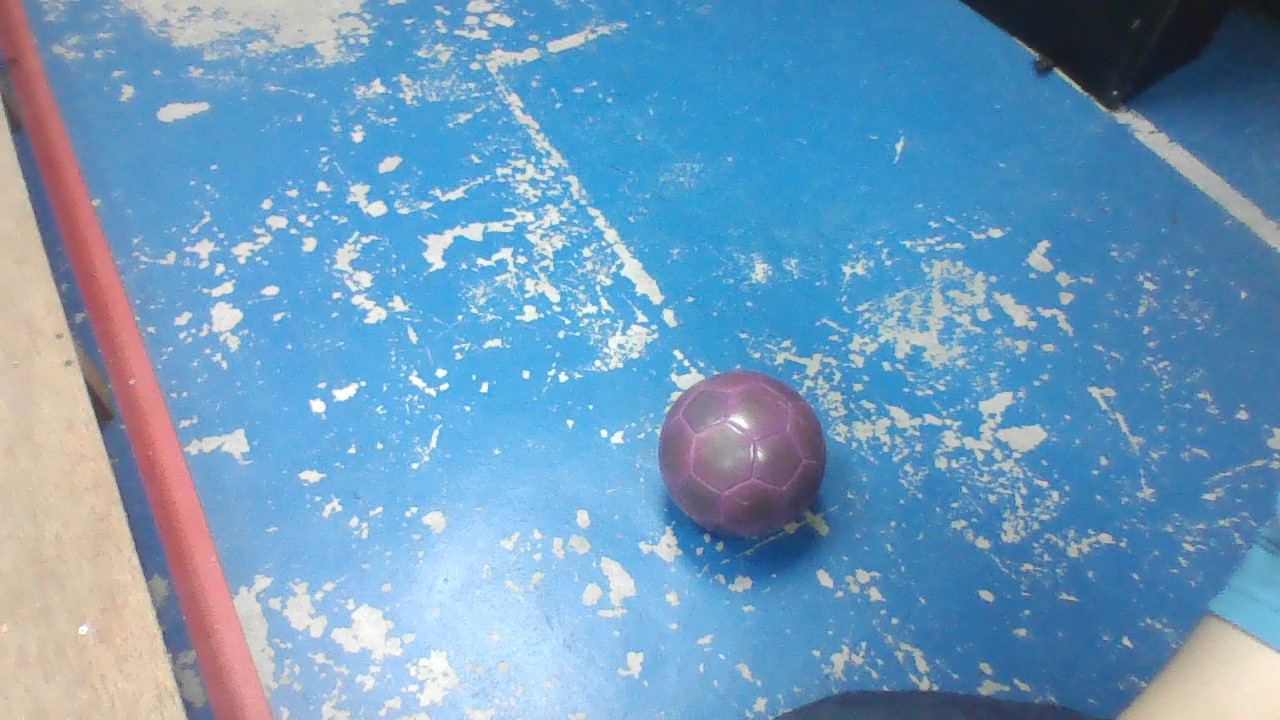Purple: (659, 372, 824, 538)
